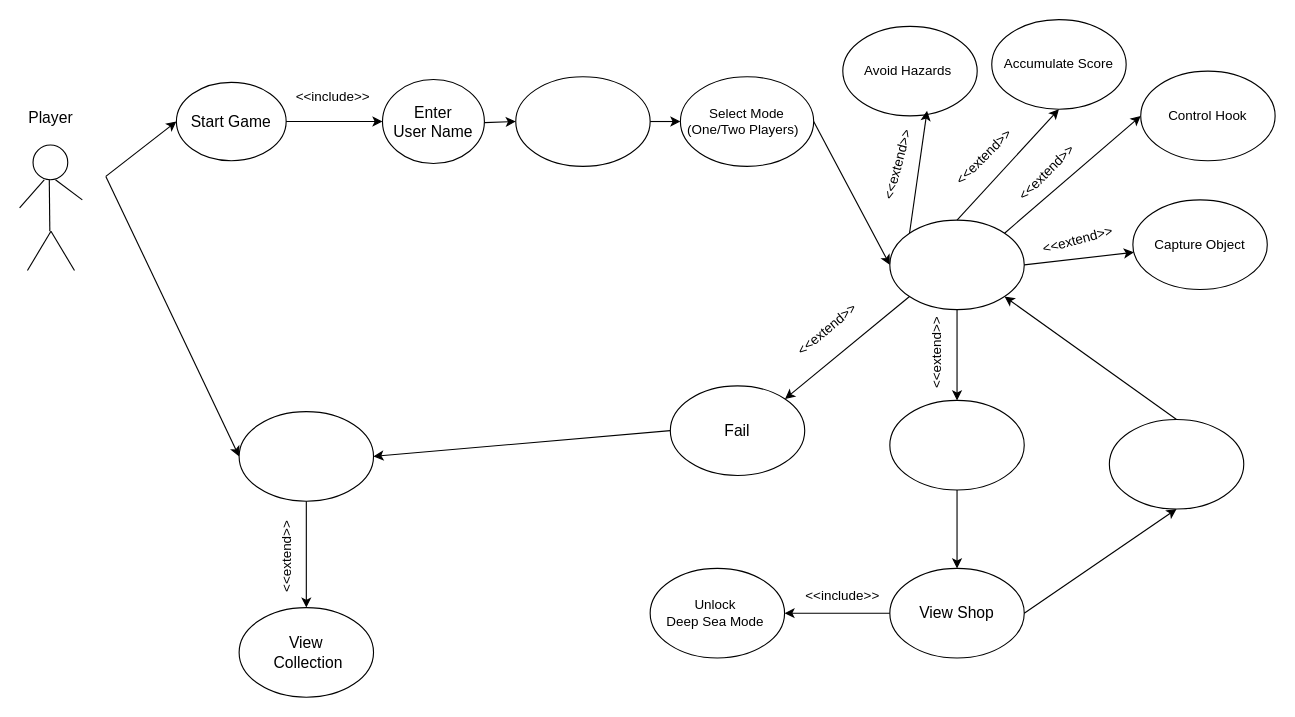
Image size: 1295x717. Some labels were removed from this diagram. The centre of each missing label's shape, as x and y in pixels:
Finish Shopping: the point at 1176,463
Play Level: the point at 956,264
Select Difficulty: the point at 582,121
View Leader Board: the point at 306,455
Win: the point at 956,444
